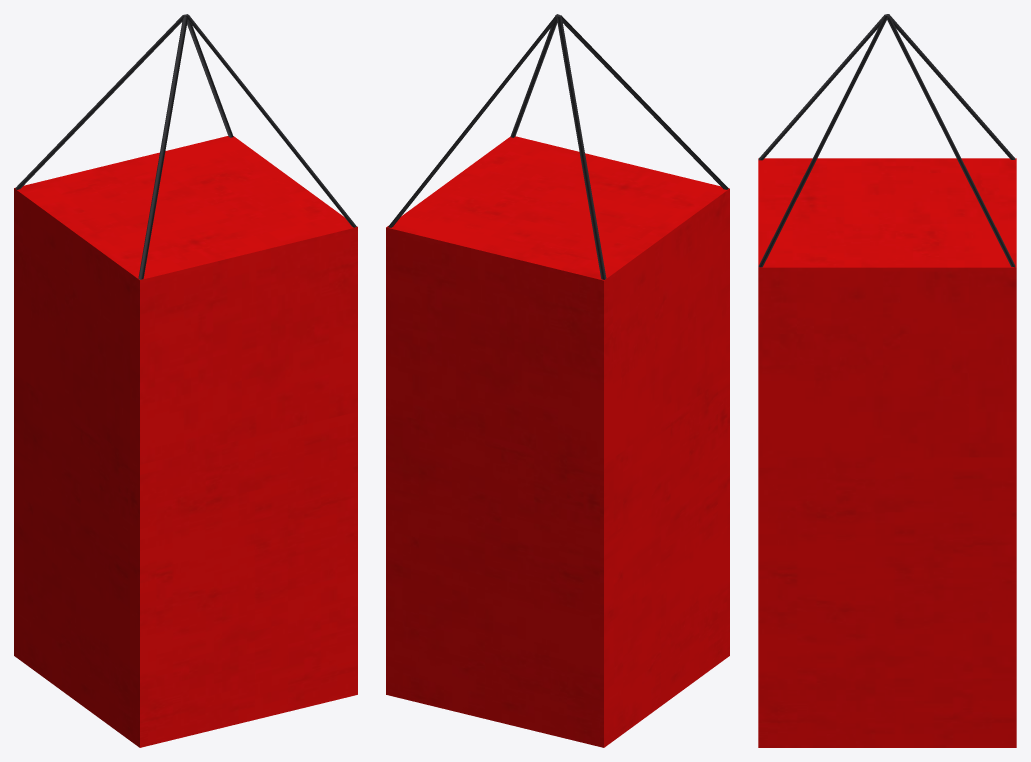
The picture shows the model from 3 angles, left to right: view 1: azimuth 30°, elevation 25°; view 2: azimuth 150°, elevation 25°; view 3: azimuth 270°, elevation 25°; orthographic projection. The views are drawn at different scales.
Visible parts, largest first — view 1: 붉은 등; view 2: 붉은 등; view 3: 붉은 등.
Boxes of the visible parts, bbox=[...] form: 붉은 등: bbox=[14, 14, 357, 747]; 붉은 등: bbox=[386, 14, 729, 747]; 붉은 등: bbox=[758, 14, 1016, 747].
Bounding box in the file's own units: 11.36 × 32.88 × 11.36.
